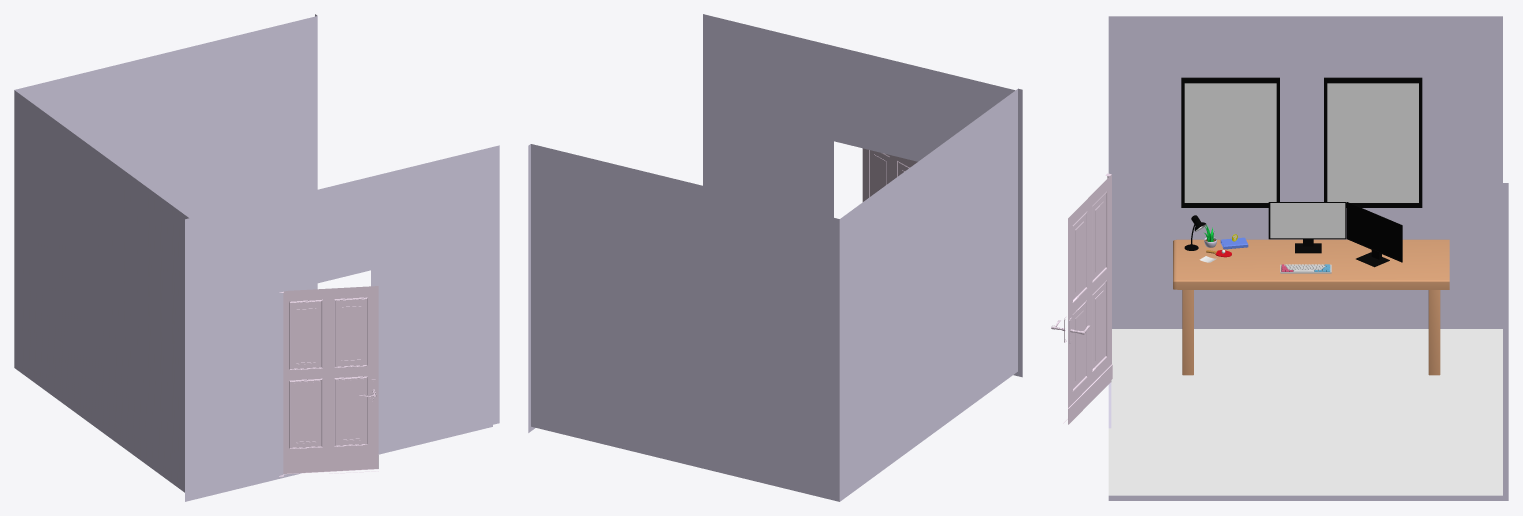
Rendered from NewWebRoomTest.glb.
The picture shows the model from 3 angles, left to right: view 1: azimuth 30°, elevation 25°; view 2: azimuth 150°, elevation 25°; view 3: azimuth 270°, elevation 25°; orthographic projection. The views are drawn at different scales.
Parts seen in each view (by area): view 1: Interior, Door; view 2: Interior, Door; view 3: Interior, Desk, haikyuPoster, mobPoster, Door, BlackFrame, MenuNav1, MenuNav2.
Part boxes in pixels (bbox=[...]): Interior: bbox=[14, 14, 499, 501]; Door: bbox=[279, 286, 378, 476]; Interior: bbox=[528, 14, 1022, 501]; Door: bbox=[862, 148, 917, 201]; Interior: bbox=[1108, 16, 1508, 500]; Desk: bbox=[1173, 239, 1449, 375]; haikyuPoster: bbox=[1184, 83, 1276, 202]; mobPoster: bbox=[1327, 83, 1418, 202]; Door: bbox=[1051, 173, 1112, 424]; BlackFrame: bbox=[1181, 77, 1422, 267]; MenuNav1: bbox=[1270, 203, 1345, 238]; MenuNav2: bbox=[1348, 203, 1400, 260].
Size of the model in its own units: 8.29 by 7.12 by 9.29.
